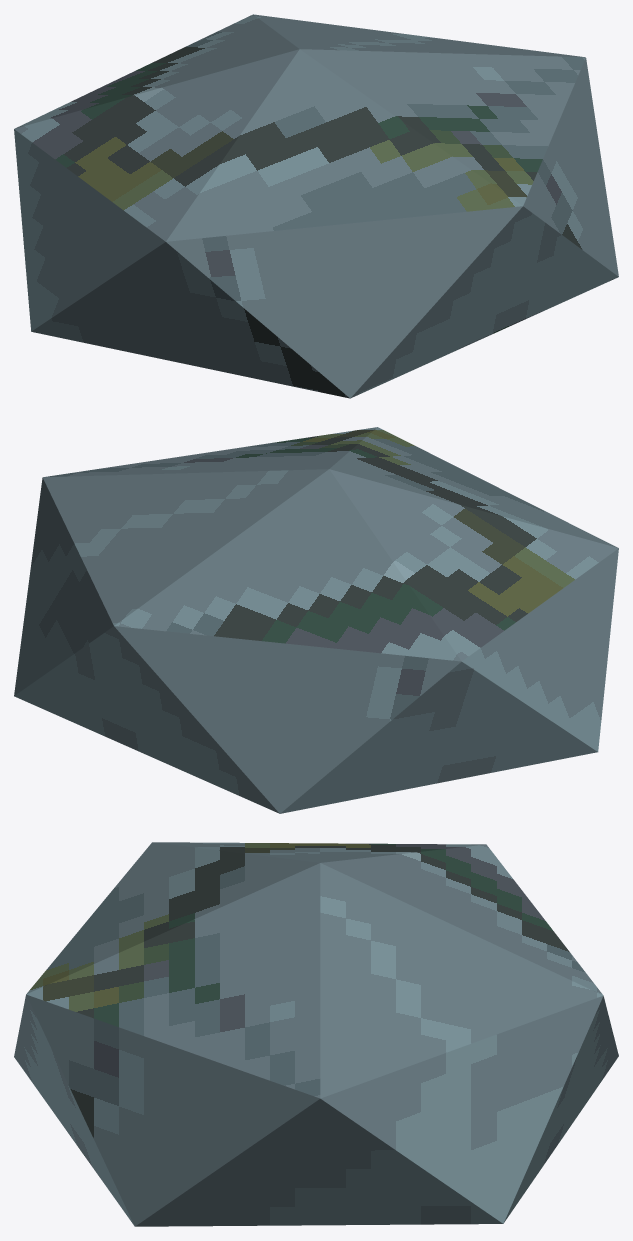
Rendered from enfeite_pedra_baixa.fbx.
3 renders of one model, top to bottom at view 1: azimuth 30°, elevation 25°; view 2: azimuth 150°, elevation 25°; view 3: azimuth 270°, elevation 25°, orthographic. The views are drawn at different scales.
Parts seen in each view (by area): view 1: bosque_enfeite_pedra_baixa; view 2: bosque_enfeite_pedra_baixa; view 3: bosque_enfeite_pedra_baixa.
Boxes of the visible parts, <box> form: bosque_enfeite_pedra_baixa: <box>14,14,618,398</box>; bosque_enfeite_pedra_baixa: <box>14,427,618,813</box>; bosque_enfeite_pedra_baixa: <box>14,842,618,1226</box>.
Size of the model in its own units: 43.04 by 22.64 by 37.54.
Materials: 1 (1 with a texture image).
